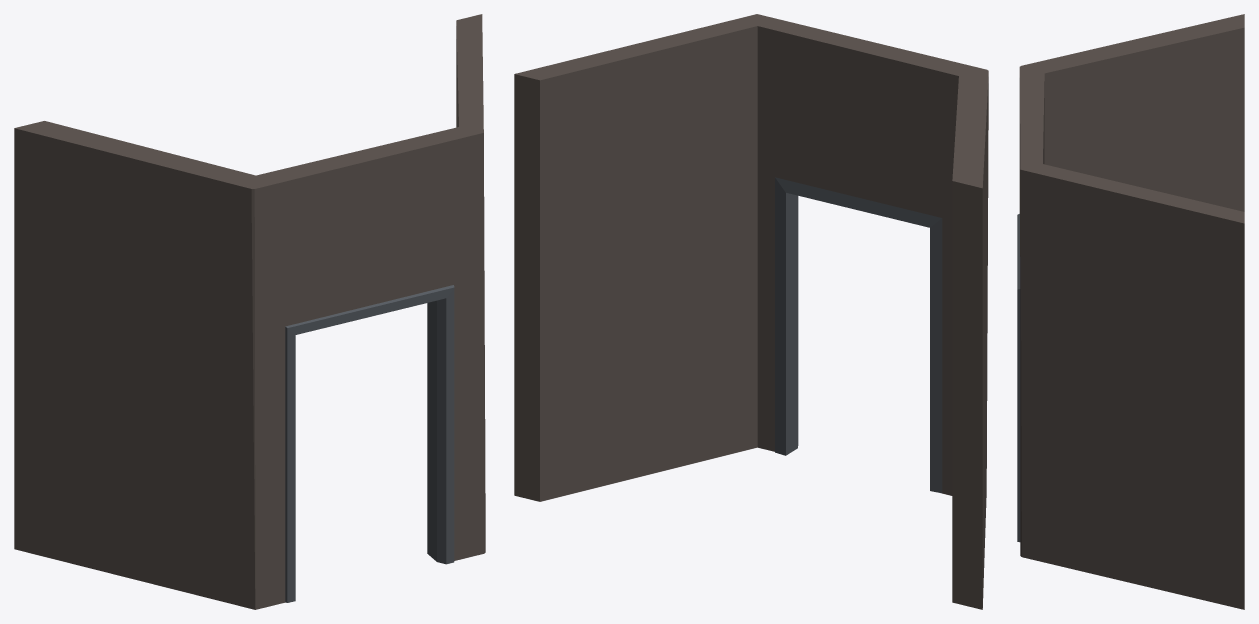
The model's file is MCastle_SmallTurret_11.FBX.
3 views of the same model, side by side, from view 1: azimuth 30°, elevation 25°; view 2: azimuth 150°, elevation 25°; view 3: azimuth 270°, elevation 25° (orthographic). The views are drawn at different scales.
Parts seen in each view (by area): view 1: MCastle_SmallTurret_11_LOD0; view 2: MCastle_SmallTurret_11_LOD0; view 3: MCastle_SmallTurret_11_LOD0.
Part boxes in pixels (x1,y1,x2,y2): MCastle_SmallTurret_11_LOD0: (14, 14, 485, 609); MCastle_SmallTurret_11_LOD0: (514, 14, 988, 609); MCastle_SmallTurret_11_LOD0: (1017, 14, 1244, 609).
Size of what is drawn, in the model's own units: 5.23 by 4.5 by 2.4.
